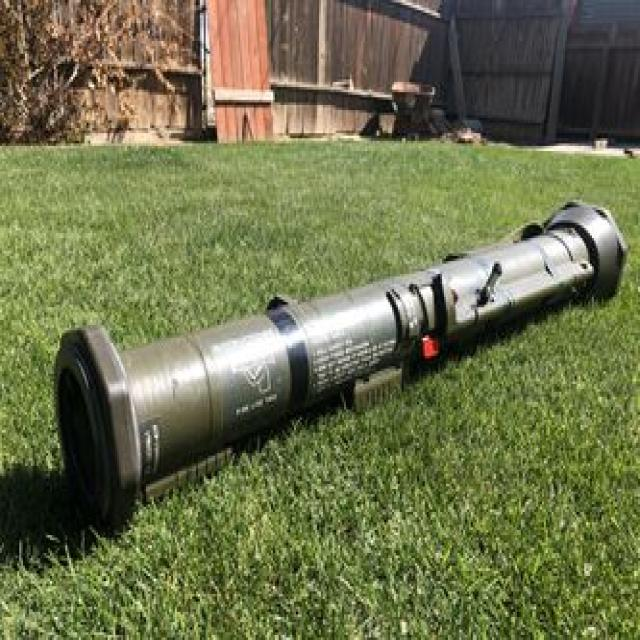bazooka: (52, 193, 625, 528)
